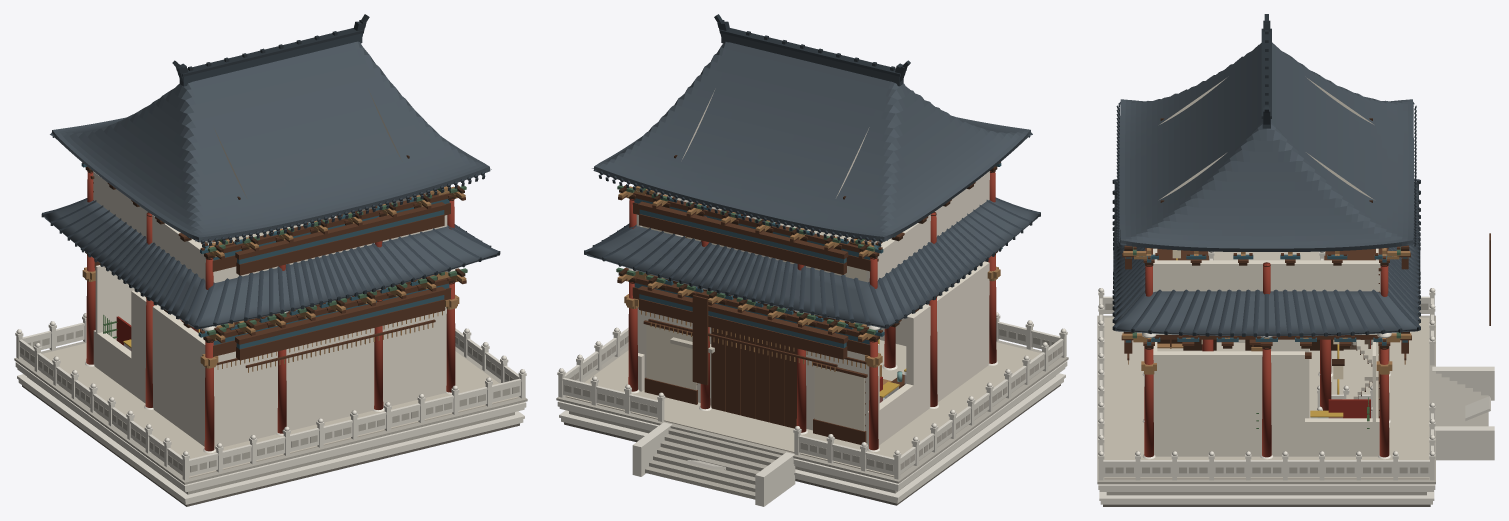
File: wenmai_gallery_huazhang.glb
3 views of the same model, side by side, from view 1: azimuth 30°, elevation 25°; view 2: azimuth 150°, elevation 25°; view 3: azimuth 270°, elevation 25° (orthographic).
Parts seen in each view (by area): view 1: ROOF_tile, WALL_wall_plaster, RAIL_stone_white, TILE_tile_dark, BASE_stone_white, BASE_floor_stone, COLUMN_wood_column, EF_wood_beam, EF2_wood_beam, BRACKET_wood_dark, BASE_stone_grey, RAIL_stone_grey (+8 smaller); view 2: ROOF_tile, WALL_wall_plaster, TILE_tile_dark, BASE_stone_grey, BASE_stone_white, BASE_floor_stone, RAIL_stone_white, DOOR_wood_beam, COLUMN_wood_column, WINDOW_paper, EF2_wood_beam, EF_wood_beam (+13 smaller); view 3: ROOF_tile, WALL_wall_plaster, BASE_floor_stone, BASE_stone_white, TILE_tile_dark, RAIL_stone_white, BASE_stone_grey, COLUMN_wood_column, BRACKET_wood_dark, RAIL_stone_grey, FLOOR2_wood_beam, ROOF_tile_edge (+7 smaller).
Boxes of the visible parts, <box> form: ROOF_tile: <box>44,41,497,329</box>; WALL_wall_plaster: <box>93,171,447,447</box>; RAIL_stone_white: <box>15,216,526,480</box>; TILE_tile_dark: <box>43,136,498,325</box>; BASE_stone_white: <box>15,362,526,504</box>; BASE_floor_stone: <box>23,343,518,478</box>; COLUMN_wood_column: <box>86,171,455,451</box>; EF_wood_beam: <box>94,261,451,360</box>; EF2_wood_beam: <box>212,193,450,275</box>; BRACKET_wood_dark: <box>80,162,467,342</box>; BASE_stone_grey: <box>14,341,527,494</box>; RAIL_stone_grey: <box>20,219,519,472</box>; ROOF_tile: <box>586,42,1038,328</box>; WALL_wall_plaster: <box>636,171,989,446</box>; TILE_tile_dark: <box>585,136,1039,324</box>; BASE_stone_grey: <box>556,340,1068,499</box>; BASE_stone_white: <box>557,361,1067,506</box>; BASE_floor_stone: <box>565,340,1058,477</box>; RAIL_stone_white: <box>557,215,1067,479</box>; DOOR_wood_beam: <box>711,327,797,428</box>; COLUMN_wood_column: <box>628,171,996,450</box>; WINDOW_paper: <box>642,226,866,431</box>; EF2_wood_beam: <box>632,192,870,274</box>; EF_wood_beam: <box>632,261,988,359</box>; ROOF_tile: <box>1114,42,1418,336</box>; WALL_wall_plaster: <box>1153,248,1380,456</box>; BASE_floor_stone: <box>1104,317,1429,479</box>; BASE_stone_white: <box>1098,366,1494,504</box>; TILE_tile_dark: <box>1113,103,1420,333</box>; RAIL_stone_white: <box>1098,251,1435,480</box>; BASE_stone_grey: <box>1097,315,1488,495</box>; COLUMN_wood_column: <box>1144,262,1389,457</box>; BRACKET_wood_dark: <box>1121,246,1411,348</box>; RAIL_stone_grey: <box>1105,303,1428,473</box>; FLOOR2_wood_beam: <box>1153,249,1379,339</box>; ROOF_tile_edge: <box>1261,14,1271,124</box>.
Bounding box in the file's own units: 17.08 × 17.61 × 17.21.
